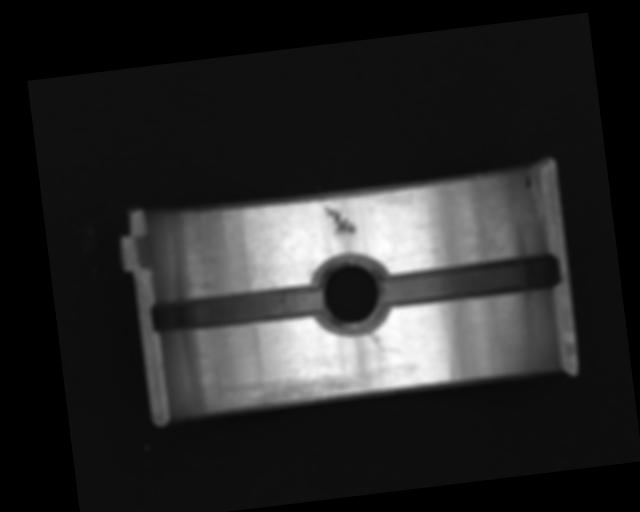blot: (523, 173, 534, 190)
bruise: (321, 201, 358, 241)
gap: (378, 253, 561, 309), (148, 283, 324, 336)
hole: (308, 254, 392, 338)
nick: (367, 329, 384, 352)
scratch: (206, 365, 365, 417)
